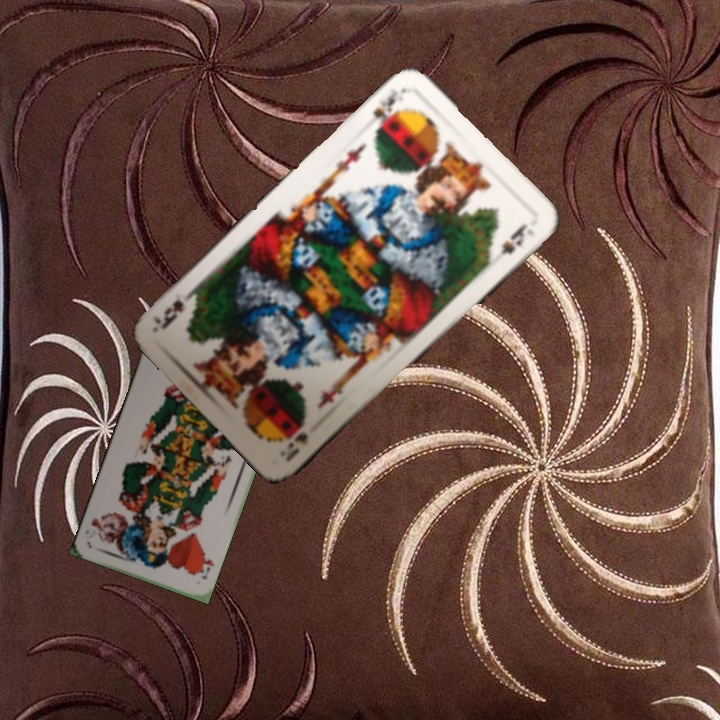HO: (194, 549, 217, 582)
SK: (368, 90, 403, 136), (275, 428, 311, 465)
